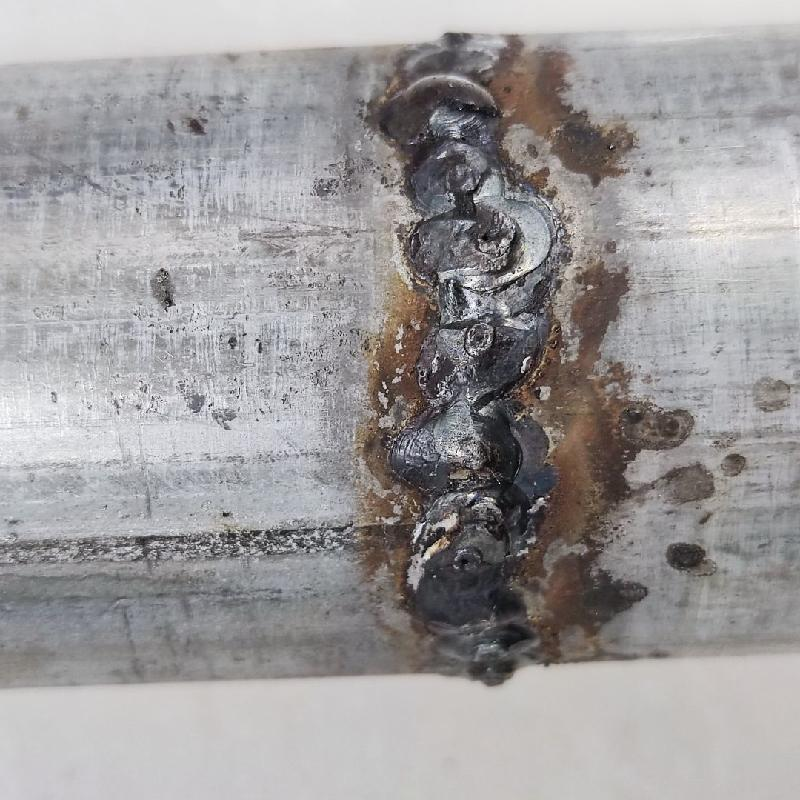Surface_pores: (466, 210, 523, 260), (462, 320, 501, 360), (447, 549, 485, 577)
Weld: (376, 74, 499, 150)
